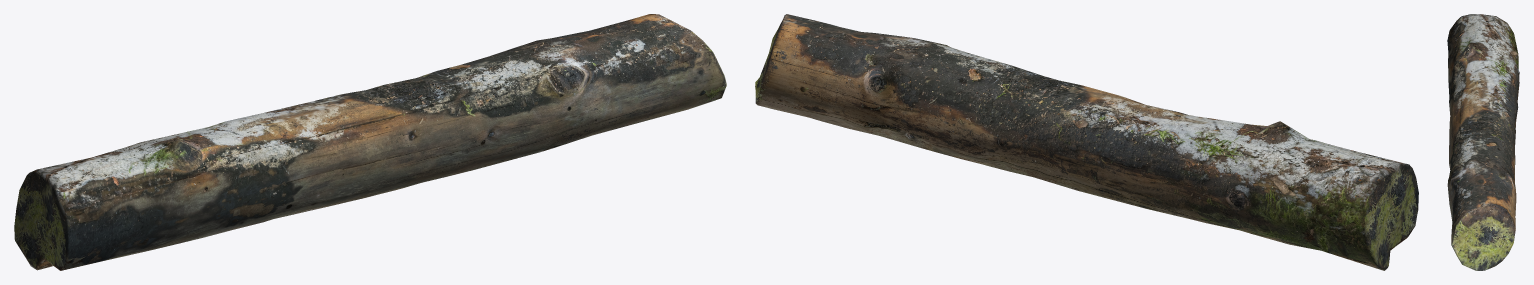
Rendered from SM_Debris_06_01.fbx.
The picture shows the model from 3 angles, left to right: view 1: azimuth 30°, elevation 25°; view 2: azimuth 150°, elevation 25°; view 3: azimuth 270°, elevation 25°; orthographic projection. The views are drawn at different scales.
Parts seen in each view (by area): view 1: sm_Debris_06_01_LOD0; view 2: sm_Debris_06_01_LOD0; view 3: sm_Debris_06_01_LOD0.
Part boxes in pixels (left/top/right/bottom): sm_Debris_06_01_LOD0: left=14, top=14, right=726, bottom=270; sm_Debris_06_01_LOD0: left=755, top=14, right=1418, bottom=270; sm_Debris_06_01_LOD0: left=1447, top=14, right=1519, bottom=270.
Bounding box in the file's own units: 9.28 × 63.31 × 9.94.
